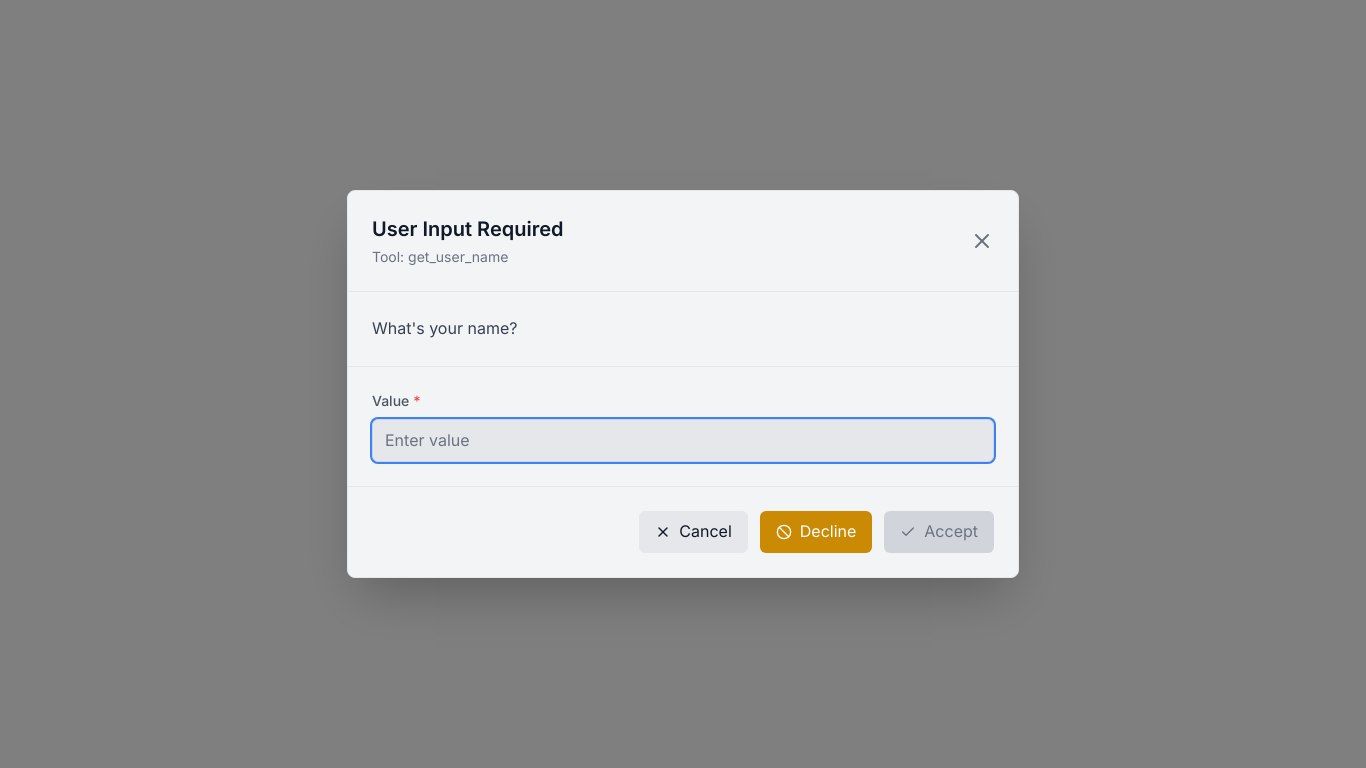
Test: ElicitationDialog - Input Validation › should enable Accept button when required field is filled
Expected: the button "Accept" is disabled, [884,511,994,553]
Note: Fill input
Step 1. Type "Alice" into the field → (683, 440), box [372,419,994,462]
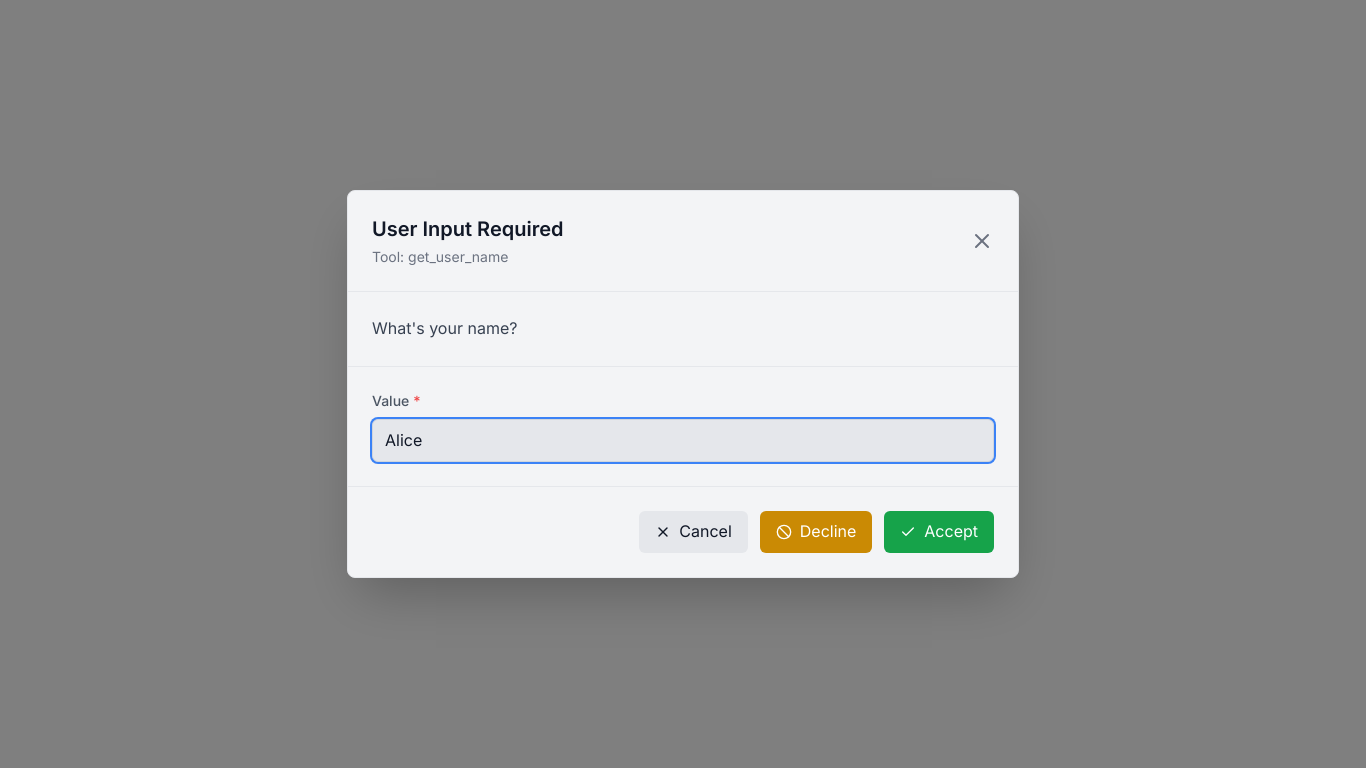
Expected: the button "Accept" is enabled, [884,511,994,553]
